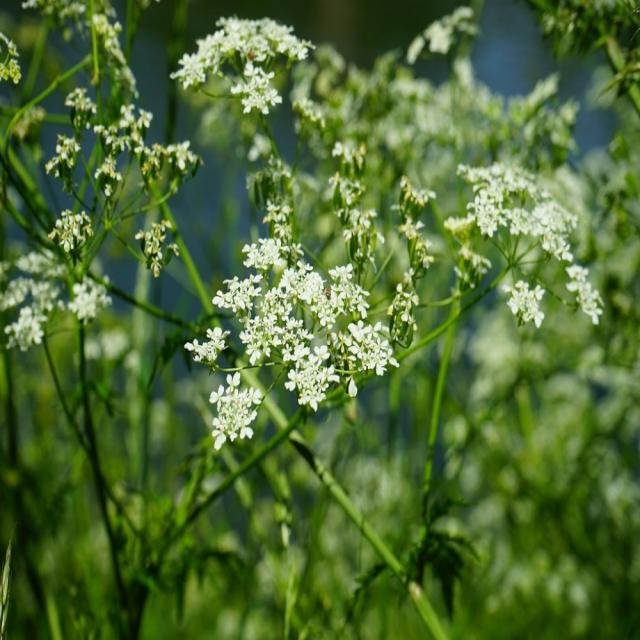Poisonous-Hemlock: (24, 12, 615, 480)
